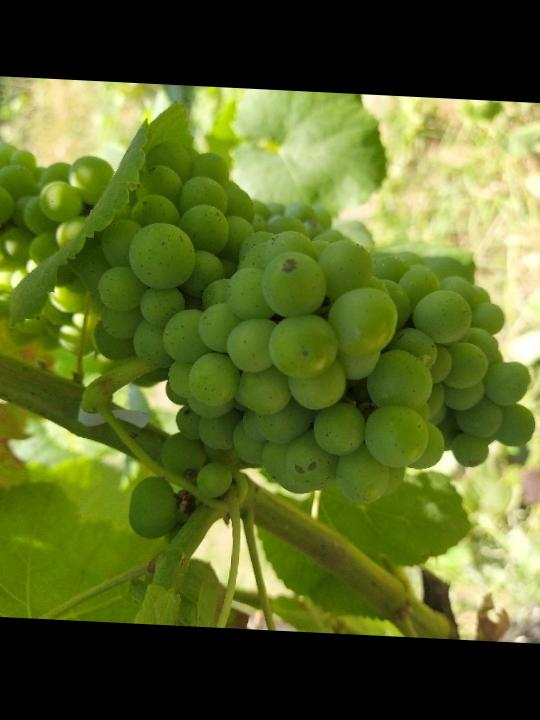grape: (53, 136, 540, 559)
